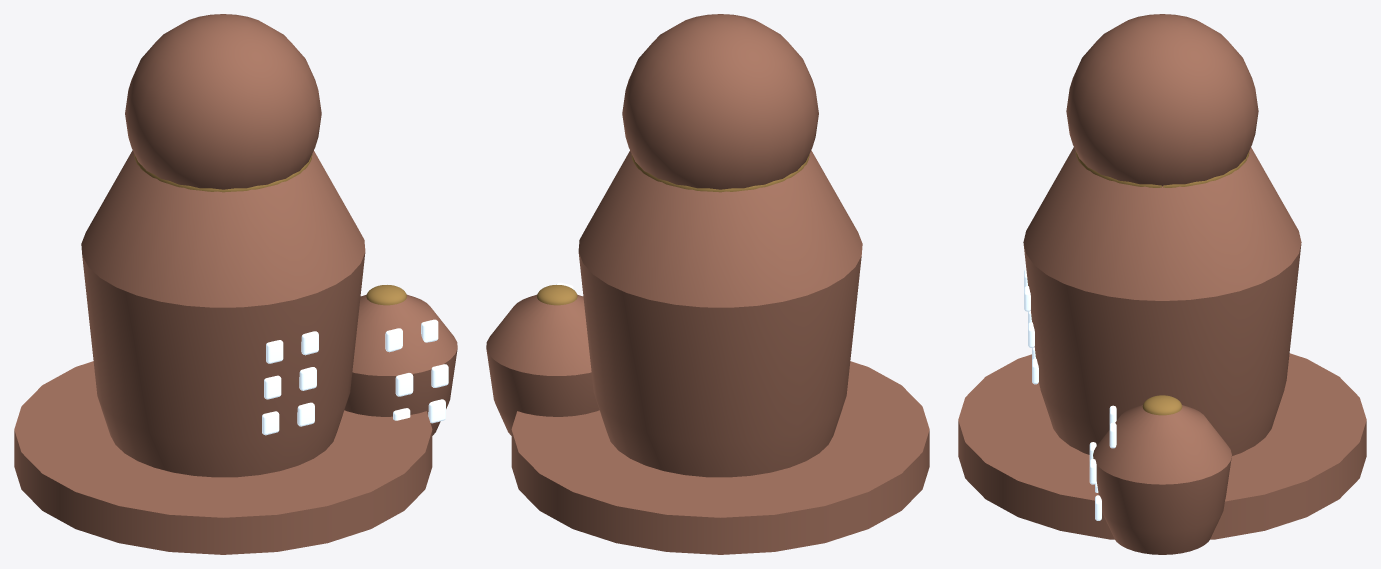
The picture shows the model from 3 angles, left to right: view 1: azimuth 30°, elevation 25°; view 2: azimuth 150°, elevation 25°; view 3: azimuth 270°, elevation 25°; orthographic projection. The views are drawn at different scales.
Visible parts, largest first — view 1: Bulb shaped chamber, Foundation drum, Stacked rounded vessel, Bulb shaped chamber.001, Tower crown.001, Rounded vessel collar; view 2: Bulb shaped chamber, Foundation drum, Stacked rounded vessel, Bulb shaped chamber.001, Tower crown.001, Rounded vessel collar; view 3: Bulb shaped chamber, Foundation drum, Stacked rounded vessel, Bulb shaped chamber.001, Tower crown.001, Rounded vessel collar.
Part boxes in pixels (bbox=[...]): Bulb shaped chamber: bbox=[81, 150, 365, 477]; Foundation drum: bbox=[14, 361, 432, 554]; Stacked rounded vessel: bbox=[125, 14, 321, 189]; Bulb shaped chamber.001: bbox=[344, 294, 457, 435]; Tower crown.001: bbox=[366, 285, 406, 305]; Rounded vessel collar: bbox=[134, 154, 312, 192]; Bulb shaped chamber: bbox=[578, 150, 862, 477]; Foundation drum: bbox=[511, 361, 929, 554]; Stacked rounded vessel: bbox=[622, 14, 818, 189]; Bulb shaped chamber.001: bbox=[486, 294, 599, 435]; Tower crown.001: bbox=[537, 285, 577, 305]; Rounded vessel collar: bbox=[631, 154, 809, 192]; Bulb shaped chamber: bbox=[1023, 147, 1301, 455]; Foundation drum: bbox=[958, 353, 1366, 539]; Stacked rounded vessel: bbox=[1066, 14, 1258, 186]; Bulb shaped chamber.001: bbox=[1093, 405, 1231, 554]; Tower crown.001: bbox=[1142, 395, 1182, 415]; Rounded vessel collar: bbox=[1075, 151, 1249, 187].
Bounding box in the file's own units: 2.29 × 2.39 × 2.04.
